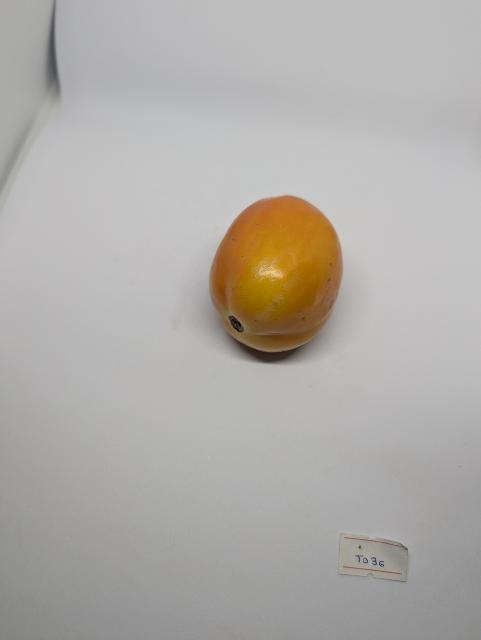turning: (203, 180, 358, 377)
